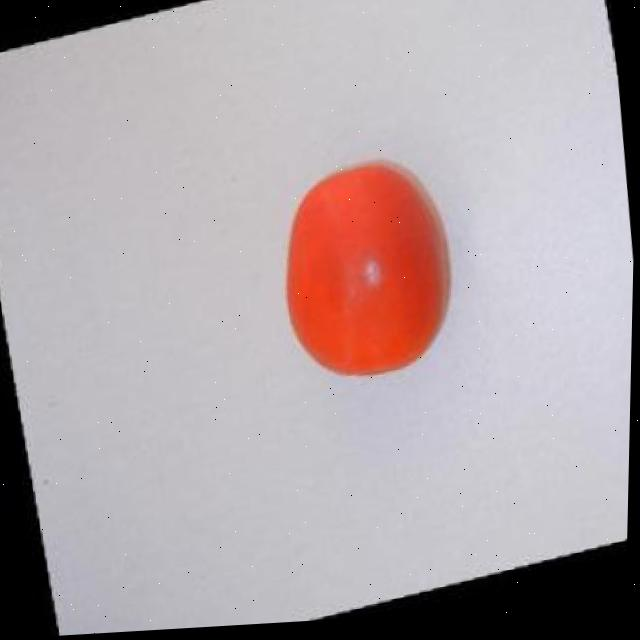Wet: (242, 138, 481, 418)
